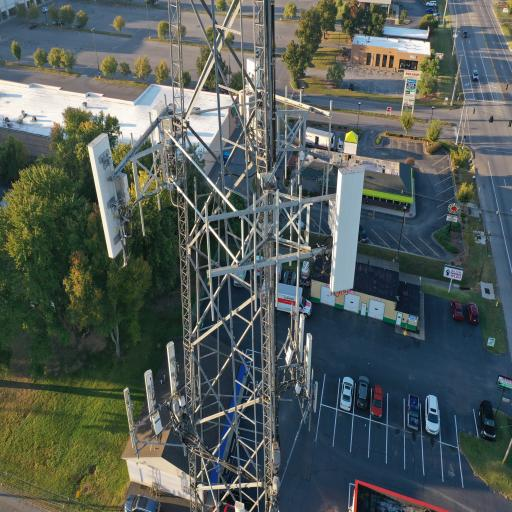supporting_tower: (84, 0, 378, 512)
